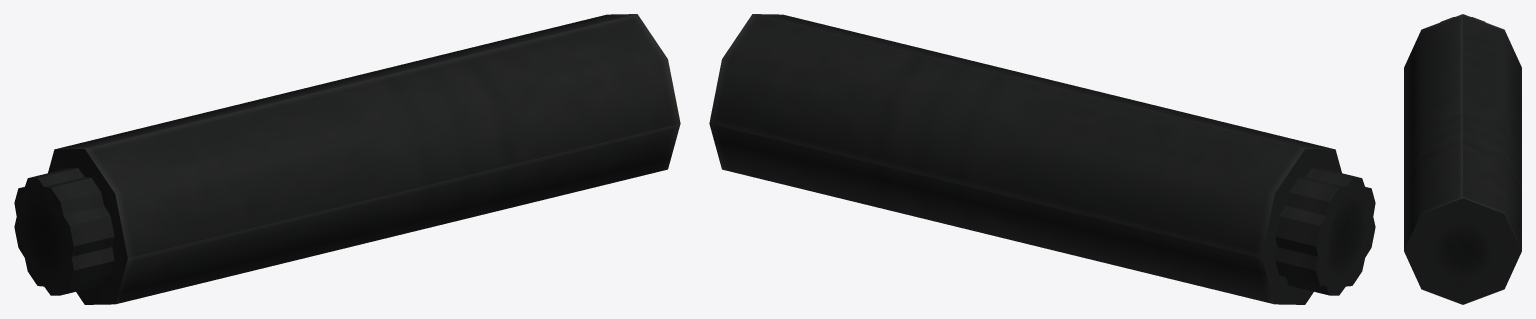
Rendered from suppressor_mp_1.obj.
3 renders of one model, left to right at view 1: azimuth 30°, elevation 25°; view 2: azimuth 150°, elevation 25°; view 3: azimuth 270°, elevation 25°, orthographic. The views are drawn at different scales.
Parts seen in each view (by area): view 1: suppressor_mp_1; view 2: suppressor_mp_1; view 3: suppressor_mp_1.
Part boxes in pixels (left/top/right/bottom): suppressor_mp_1: left=14, top=14, right=680, bottom=304; suppressor_mp_1: left=709, top=14, right=1375, bottom=304; suppressor_mp_1: left=1404, top=14, right=1521, bottom=304.
Size of the model in its own units: 5.6 by 1.41 by 1.41.
1 material, 1 textured.
